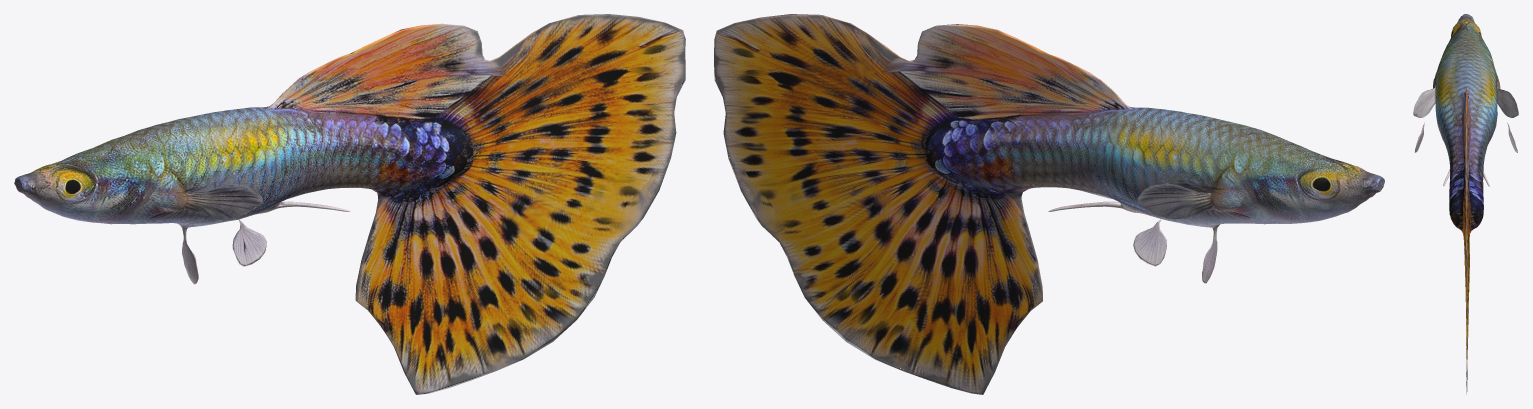
File: guppy_yellow_leopard_mesh.glb
3 renders of one model, left to right at view 1: azimuth 30°, elevation 25°; view 2: azimuth 150°, elevation 25°; view 3: azimuth 270°, elevation 25°, orthographic. The views are drawn at different scales.
Bounding box in the file's own units: 1 × 0.5312 × 0.1995.
1 material, 1 textured.
